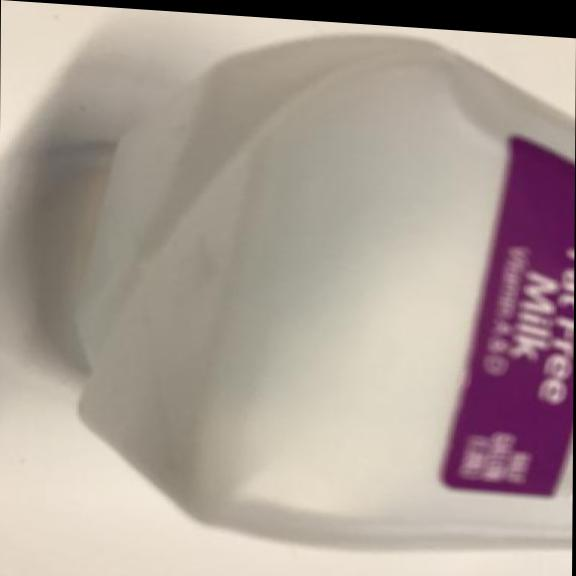Plastik: (50, 10, 576, 565)
